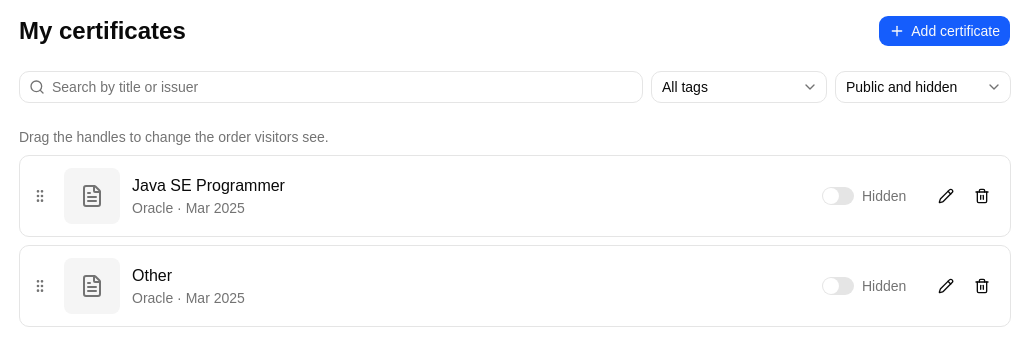
Test: CertificateListPage › searches after typing pauses and turns off reordering
Expected: the text "Drag the handles to change the order visitors see." is shown, x1=19 y1=129 x2=329 y2=145
Type "java" into the search field labelled "Search by title or issuer" at (331, 87), box x1=19 y1=71 x2=643 y2=103
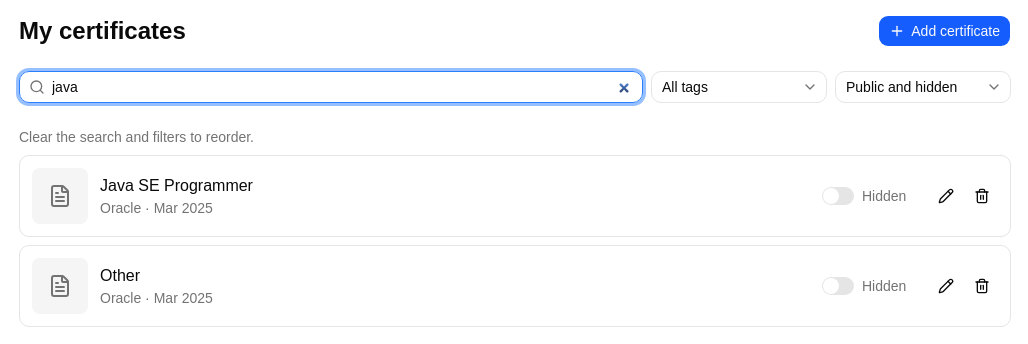
Now the text "Clear the search and filters to reorder." is shown, box x1=19 y1=129 x2=254 y2=145
